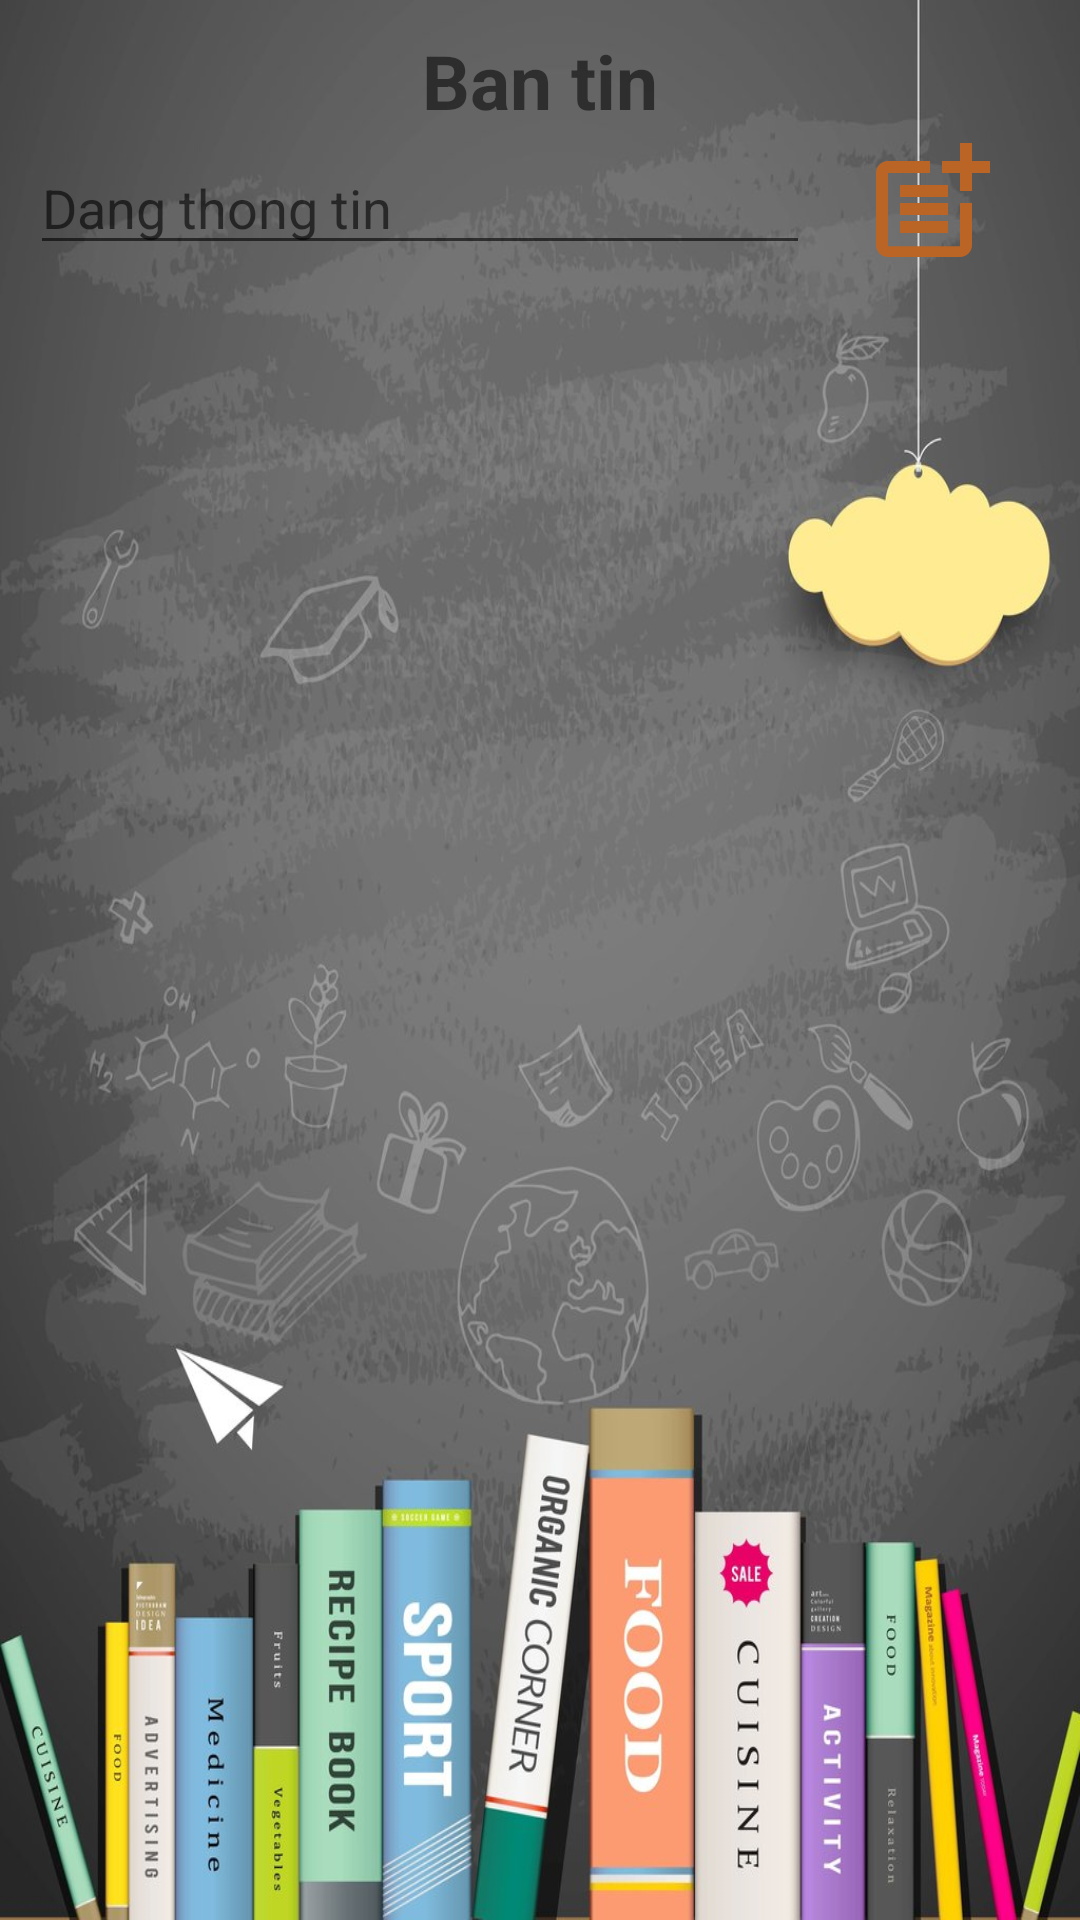

Icons on this 1080 x 1920 Android screen, each with the point to tap as (x,y):
post add: (900,203)
